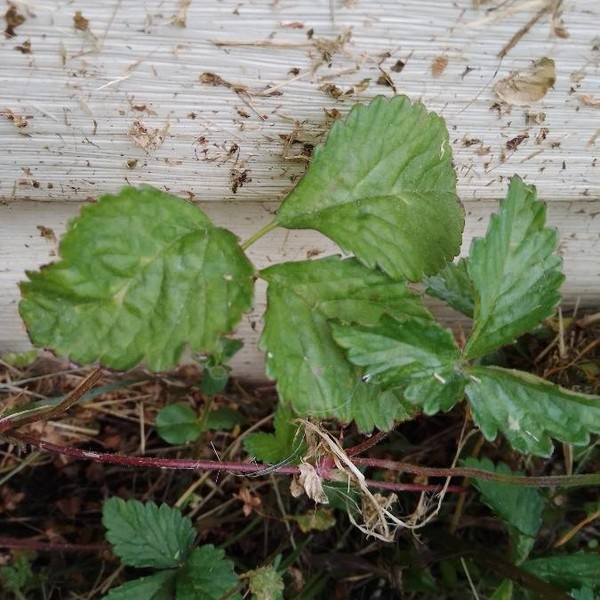obstacle: (48, 97, 555, 466)
